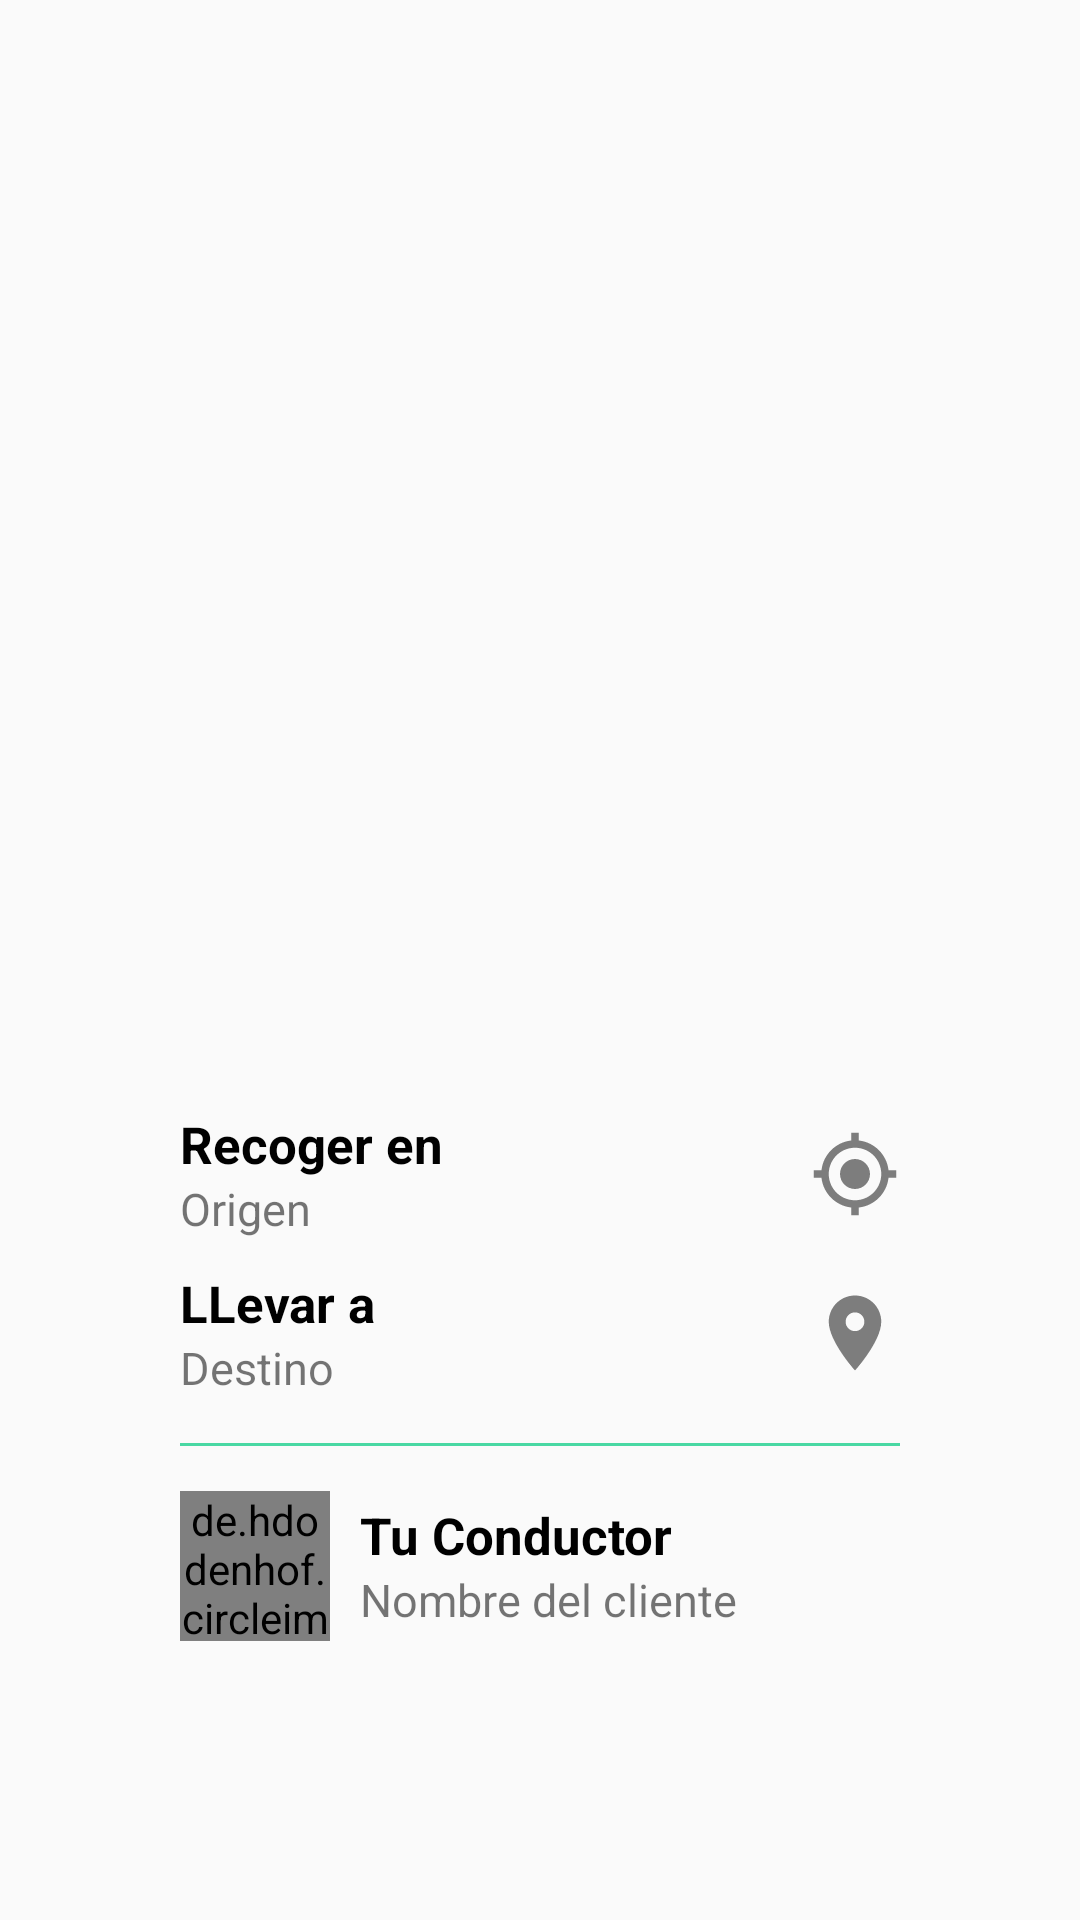

Icon bounding boxes for this 1080w x 1920h phone screenshot, format Rect(x1, y1, x2, y2):
location: Rect(813, 1132, 897, 1216), Rect(828, 1295, 882, 1370)
